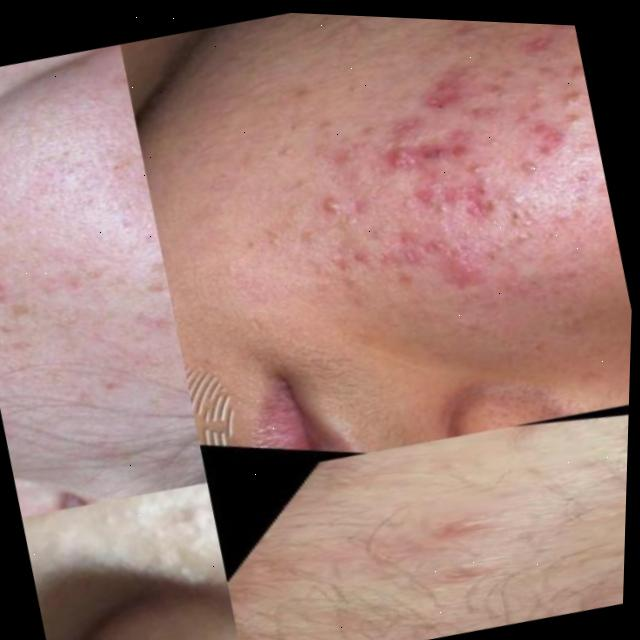Acne: (208, 10, 628, 343), (421, 498, 509, 595)
